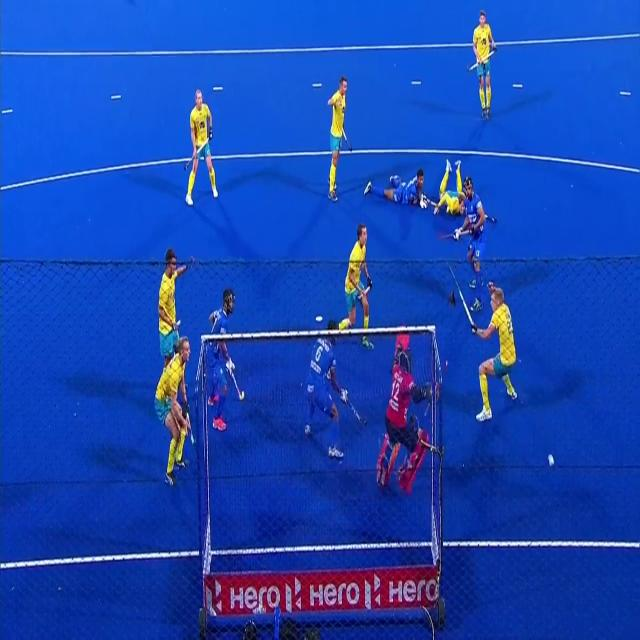ball: (545, 450, 557, 469)
